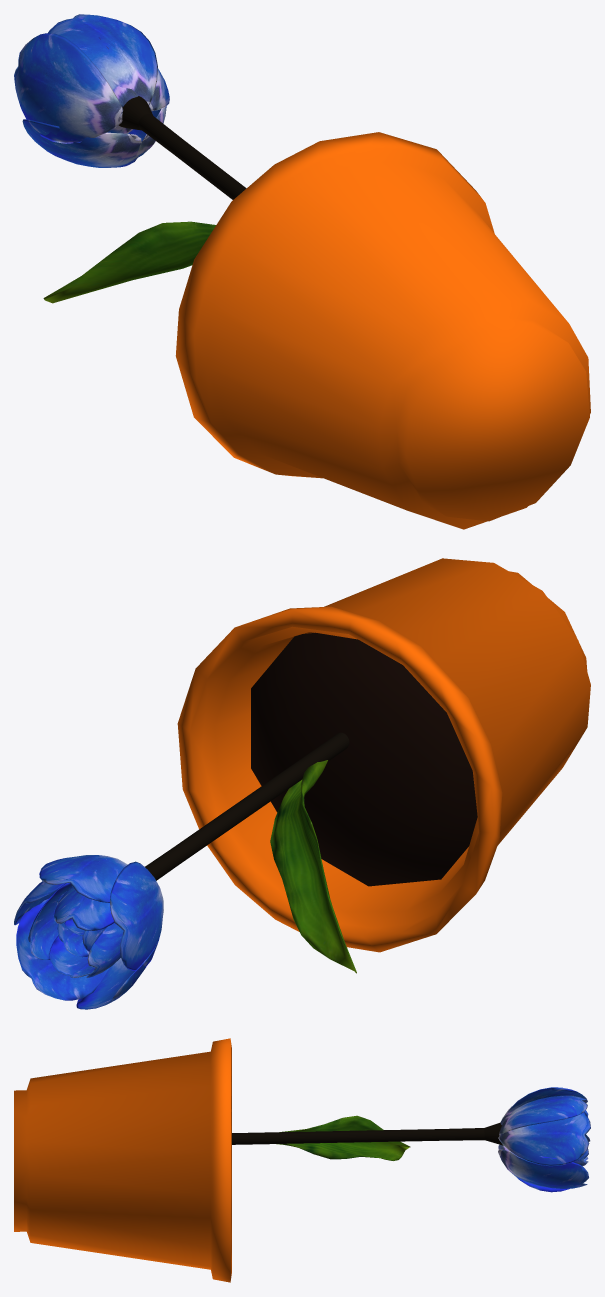
File: Tulip0620.obj
3 views of the same model, one above another, from view 1: azimuth 30°, elevation 25°; view 2: azimuth 150°, elevation 25°; view 3: azimuth 270°, elevation 25° (orthographic). The views are drawn at different scales.
Parts seen in each view (by area): view 1: Pot_Cylinder, Tulip_flower_Plane, tulip_leaf_Plane.002, tulip_stem_Cylinder; view 2: Pot_Cylinder, Tulip_flower_Plane, tulip_leaf_Plane.002, tulip_stem_Cylinder; view 3: Pot_Cylinder, Tulip_flower_Plane, tulip_stem_Cylinder, tulip_leaf_Plane.002.
Boxes of the visible parts, <box> form: Pot_Cylinder: <box>175,132,590,529</box>; Tulip_flower_Plane: <box>14,14,169,167</box>; tulip_leaf_Plane.002: <box>43,221,215,303</box>; tulip_stem_Cylinder: <box>118,96,246,199</box>; Pot_Cylinder: <box>177,558,590,952</box>; Tulip_flower_Plane: <box>14,855,163,1009</box>; tulip_leaf_Plane.002: <box>270,760,356,973</box>; tulip_stem_Cylinder: <box>145,732,349,880</box>; Pot_Cylinder: <box>14,1038,231,1282</box>; Tulip_flower_Plane: <box>498,1087,590,1192</box>; tulip_stem_Cylinder: <box>232,1122,503,1145</box>; tulip_leaf_Plane.002: <box>276,1115,410,1160</box>.
Size of the model in its own units: 2.64 by 2.64 by 6.24.
